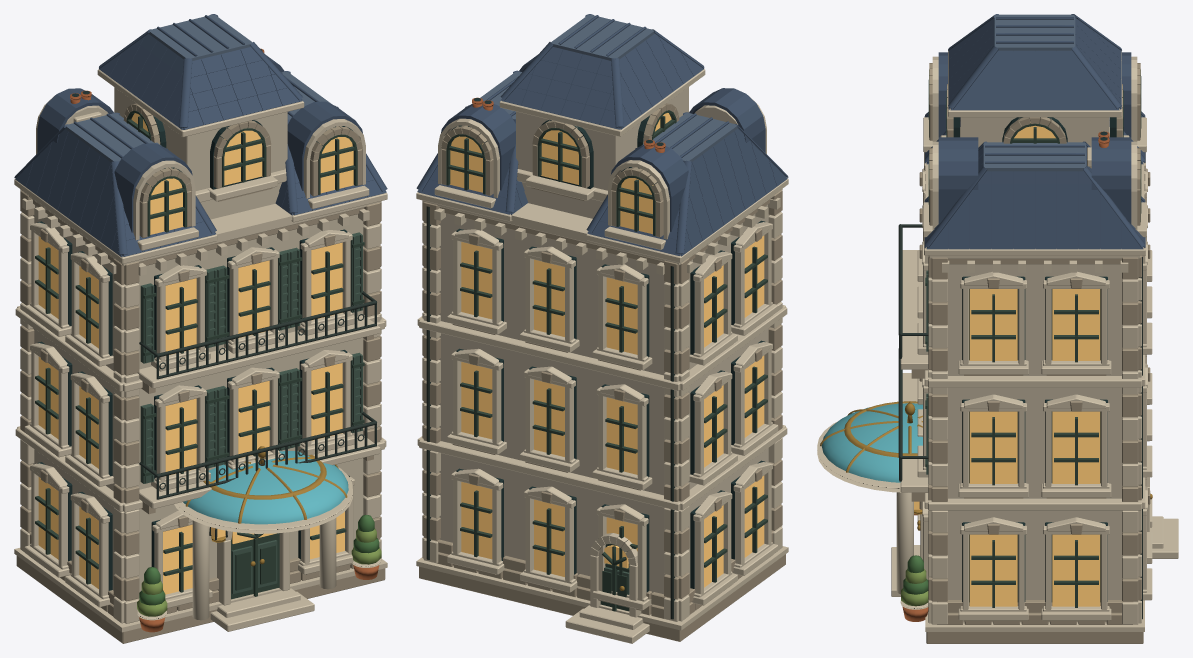
3 renders of one model, left to right at view 1: azimuth 30°, elevation 25°; view 2: azimuth 150°, elevation 25°; view 3: azimuth 270°, elevation 25°, orthographic. The views are drawn at different scales.
Visible parts, largest first — view 1: classic_hotel_3_geometry, classic_hotel_3_geometry ceramic; view 2: classic_hotel_3_geometry, classic_hotel_3_geometry ceramic; view 3: classic_hotel_3_geometry, classic_hotel_3_geometry ceramic.
Boxes of the visible parts, x1,y1,x2,y2 form: classic_hotel_3_geometry: (14,48,387,643); classic_hotel_3_geometry ceramic: (14,14,387,256); classic_hotel_3_geometry: (416,69,788,643); classic_hotel_3_geometry ceramic: (416,14,788,256); classic_hotel_3_geometry: (817,51,1178,643); classic_hotel_3_geometry ceramic: (924,14,1145,249).
Bounding box in the file's own units: 0.8991 × 1.66 × 0.99.
